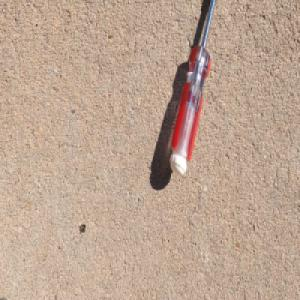Screwdriver: (167, 0, 217, 178)
